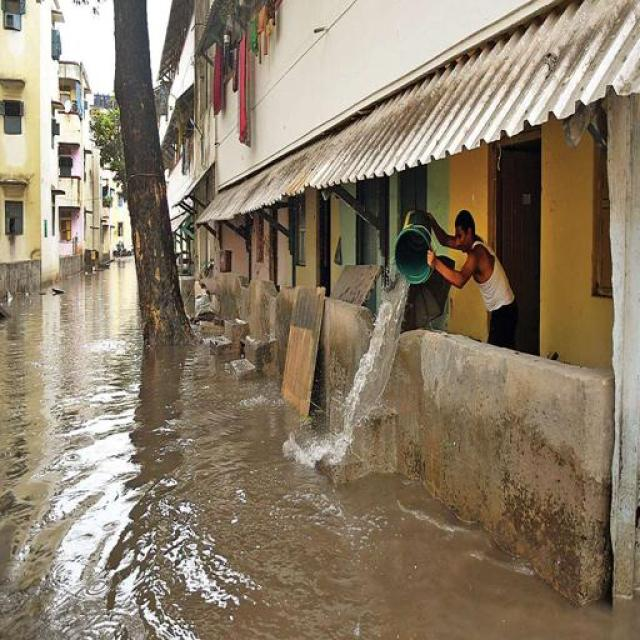puddle: (4, 294, 142, 640), (130, 373, 304, 640), (273, 491, 488, 640)
